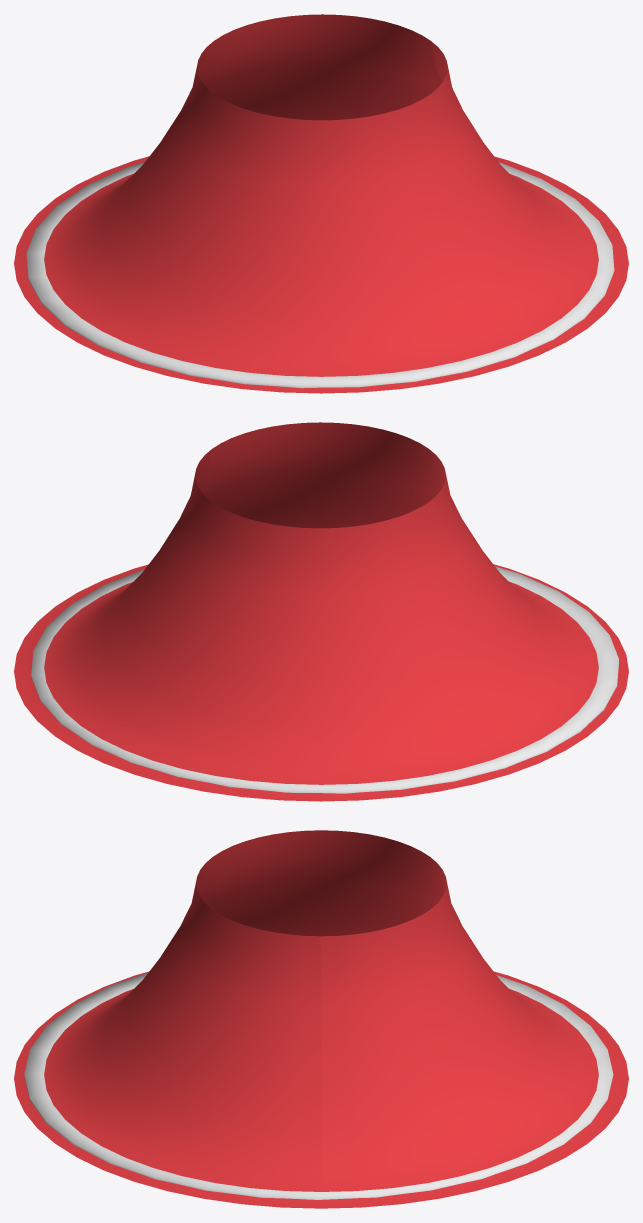
The model's file is TestK.dae.
3 renders of one model, top to bottom at view 1: azimuth 30°, elevation 25°; view 2: azimuth 150°, elevation 25°; view 3: azimuth 270°, elevation 25°, orthographic.
Visible parts, largest first — view 1: Torus.001, Cylinder; view 2: Torus.001, Cylinder; view 3: Torus.001, Cylinder.
Part boxes in pixels (left/top/right/bottom): Torus.001: left=14, top=14, right=628, bottom=393; Cylinder: left=26, top=162, right=614, bottom=388; Torus.001: left=14, top=422, right=628, bottom=801; Cylinder: left=31, top=566, right=618, bottom=793; Torus.001: left=14, top=830, right=628, bottom=1208; Cylinder: left=24, top=972, right=613, bottom=1199.
Size of the model in its own units: 77.34 by 77.34 by 27.64.
